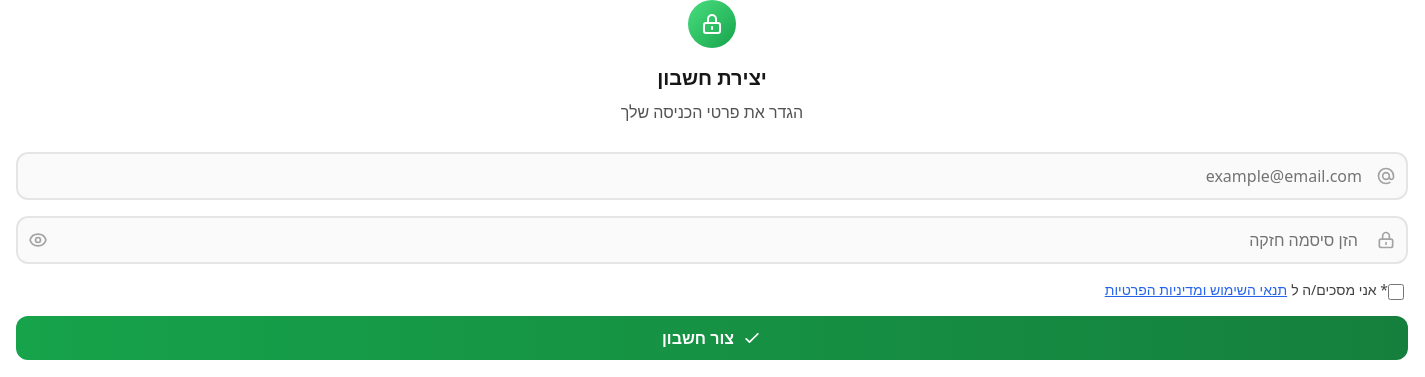
Test: AccountDetailsStep › Password Tooltip › should show tooltip on lock icon hover
The image size is (1425, 377).
Note: Hover over lock icon container
Hover over the 3rd element with class "relative": (1386, 240) [1376, 230, 1396, 250]
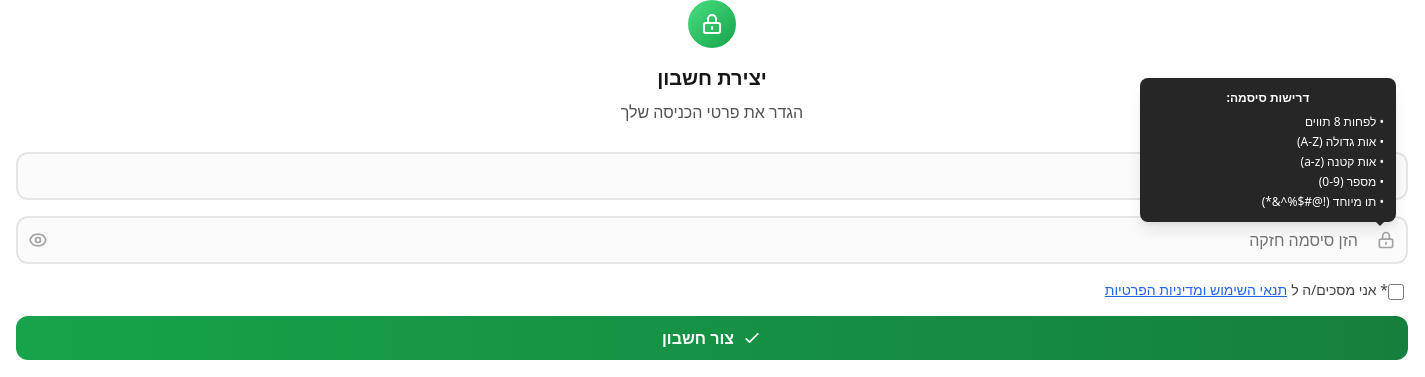
Now the text "דרישות סיסמה:" is shown, box [1227, 89, 1309, 106]
Now the list item "• לפחות 8 תווים" is shown, box [1305, 113, 1384, 130]
Now the list item "• אות גדולה (A-Z)" is shown, box [1297, 133, 1384, 150]
